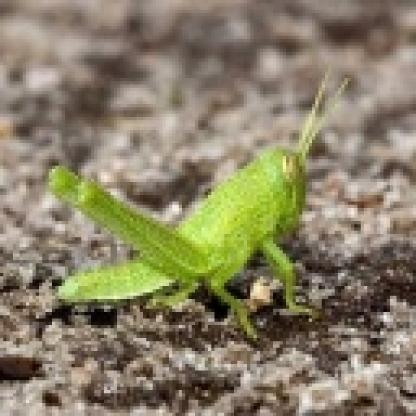grasshopper: (42, 94, 346, 337)
